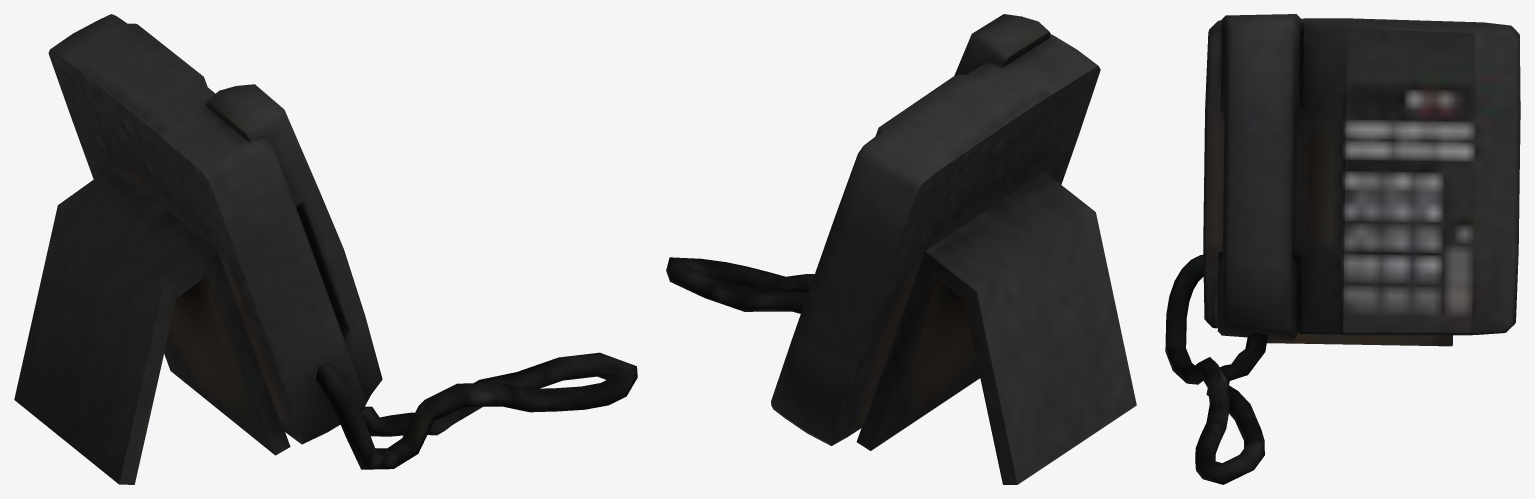
File: L_Telephone.FBX
The picture shows the model from 3 angles, left to right: view 1: azimuth 30°, elevation 25°; view 2: azimuth 150°, elevation 25°; view 3: azimuth 270°, elevation 25°; orthographic projection. The views are drawn at different scales.
Visible parts, largest first — view 1: L_Telephone; view 2: L_Telephone; view 3: L_Telephone.
Boxes of the visible parts, x1,y1,x2,y2 form: L_Telephone: (14, 14, 637, 484); L_Telephone: (666, 14, 1136, 484); L_Telephone: (1165, 14, 1520, 484).
Size of the model in its own units: 34.4 by 23.78 by 24.04.
